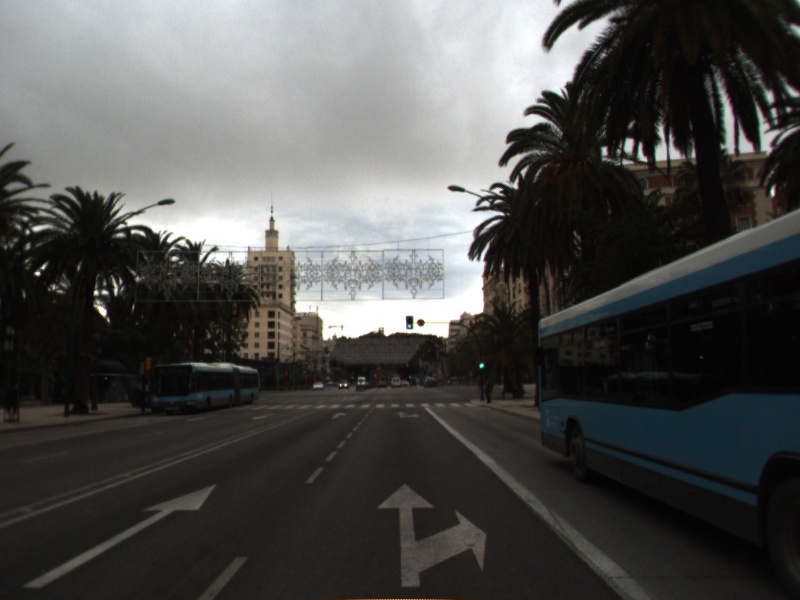STRAIGHT: (20, 482, 219, 591), (329, 410, 348, 421)
STRAIGHT_RIGHT: (375, 481, 489, 589), (393, 409, 422, 420)
